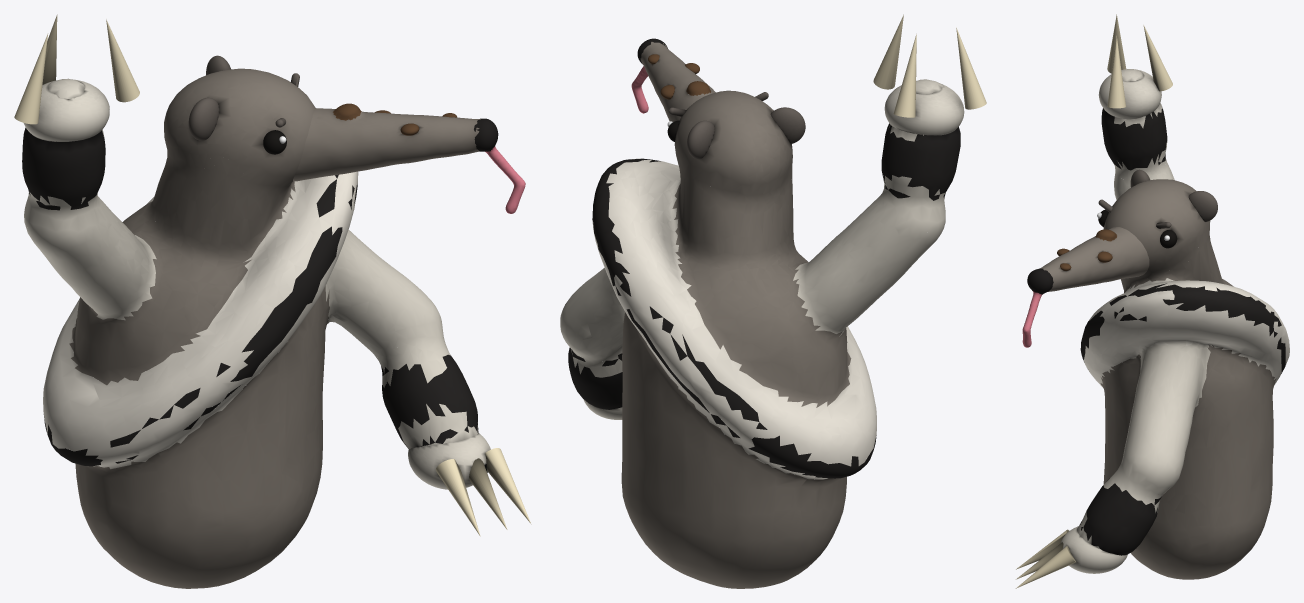
The model's file is forlat-jag-ar-lite-sen.glb.
The picture shows the model from 3 angles, left to right: view 1: azimuth 30°, elevation 25°; view 2: azimuth 150°, elevation 25°; view 3: azimuth 270°, elevation 25°; orthographic projection. The views are drawn at different scales.
Visible parts, largest first — view 1: tamandua__r0, focinho__r0, tamandua__r8, tamandua__r4, tamandua__r9, tamandua__r10, tamandua__r5, tamandua__r7, tamandua__r12, tamandua__r6; view 2: tamandua__r0, focinho__r0, tamandua__r8, tamandua__r9, tamandua__r11, tamandua__r10, tamandua__r12, tamandua__r16; view 3: tamandua__r0, focinho__r0, tamandua__r8, tamandua__r4, tamandua__r10, tamandua__r11, tamandua__r7, tamandua__r16, tamandua__r9, tamandua__r5.
Part boxes in pixels (x1,y1,x2,y2): tamandua__r0: [22, 68, 478, 588]; focinho__r0: [293, 103, 525, 213]; tamandua__r8: [23, 79, 109, 141]; tamandua__r4: [408, 433, 490, 489]; tamandua__r9: [14, 33, 48, 124]; tamandua__r10: [106, 19, 139, 102]; tamandua__r5: [435, 459, 480, 536]; tamandua__r7: [485, 448, 531, 524]; tamandua__r12: [188, 97, 219, 140]; tamandua__r6: [469, 458, 507, 529]; tamandua__r0: [560, 79, 960, 588]; focinho__r0: [631, 38, 715, 121]; tamandua__r8: [884, 80, 964, 135]; tamandua__r9: [956, 27, 986, 109]; tamandua__r11: [893, 34, 916, 117]; tamandua__r10: [873, 14, 903, 89]; tamandua__r12: [770, 107, 805, 143]; tamandua__r16: [687, 120, 714, 159]; tamandua__r0: [1077, 69, 1289, 579]; focinho__r0: [1022, 227, 1149, 347]; tamandua__r8: [1098, 69, 1161, 119]; tamandua__r4: [1060, 526, 1127, 573]; tamandua__r10: [1107, 36, 1126, 108]; tamandua__r11: [1143, 25, 1172, 91]; tamandua__r7: [1015, 546, 1076, 588]; tamandua__r16: [1188, 191, 1217, 221]; tamandua__r9: [1107, 14, 1126, 73]; tamandua__r5: [1016, 529, 1069, 569].
Bounding box in the file's own units: 1.79 × 2.36 × 1.22.
